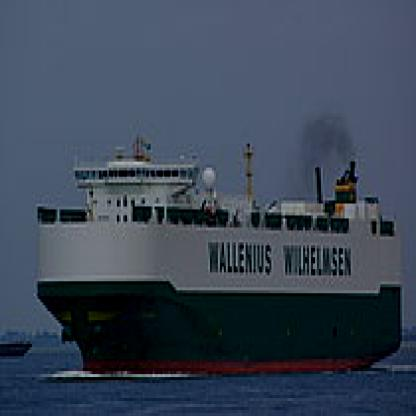Tanker: (31, 193, 394, 390)
